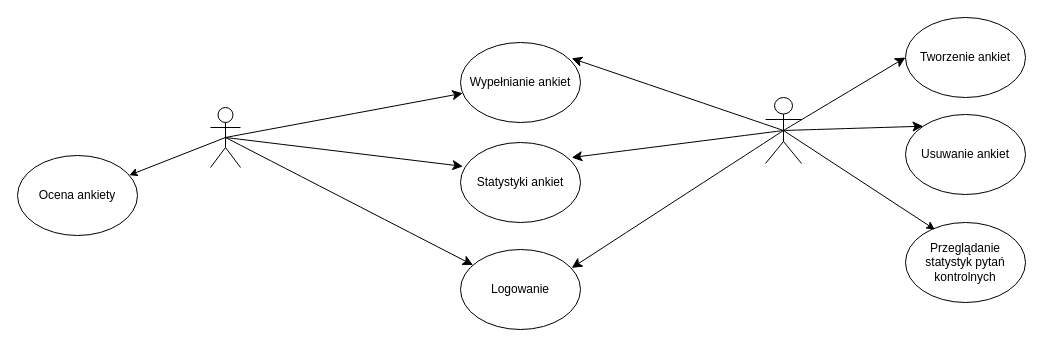
This 1043x347 diagram has some shape labels left out. Here are the shapes that lost their labels. From the top down, the centre of each, then its label:
At [225,137]: "Użytkownik".
At [783,130]: "Administrator".
